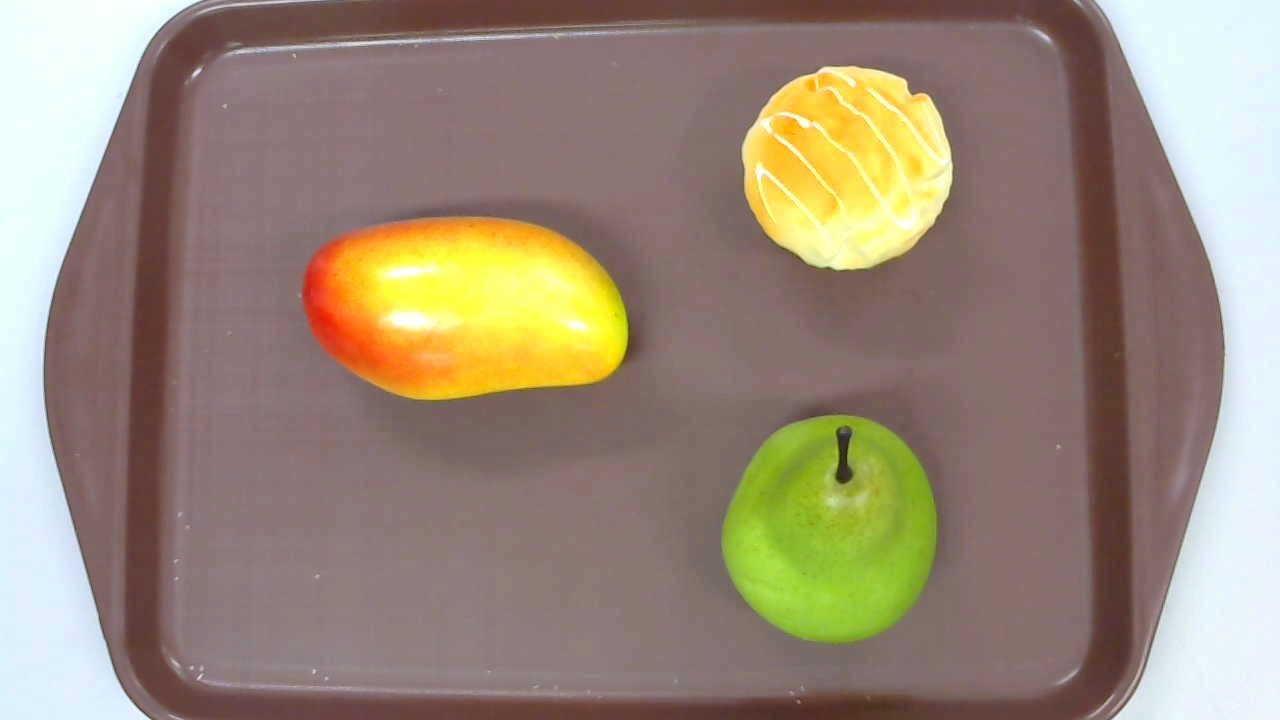cupcake: (740, 66, 953, 268)
green pear: (721, 414, 936, 641)
red mango: (302, 214, 628, 402)
